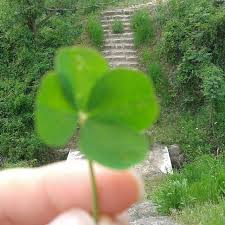4-clover: (36, 46, 158, 168)
